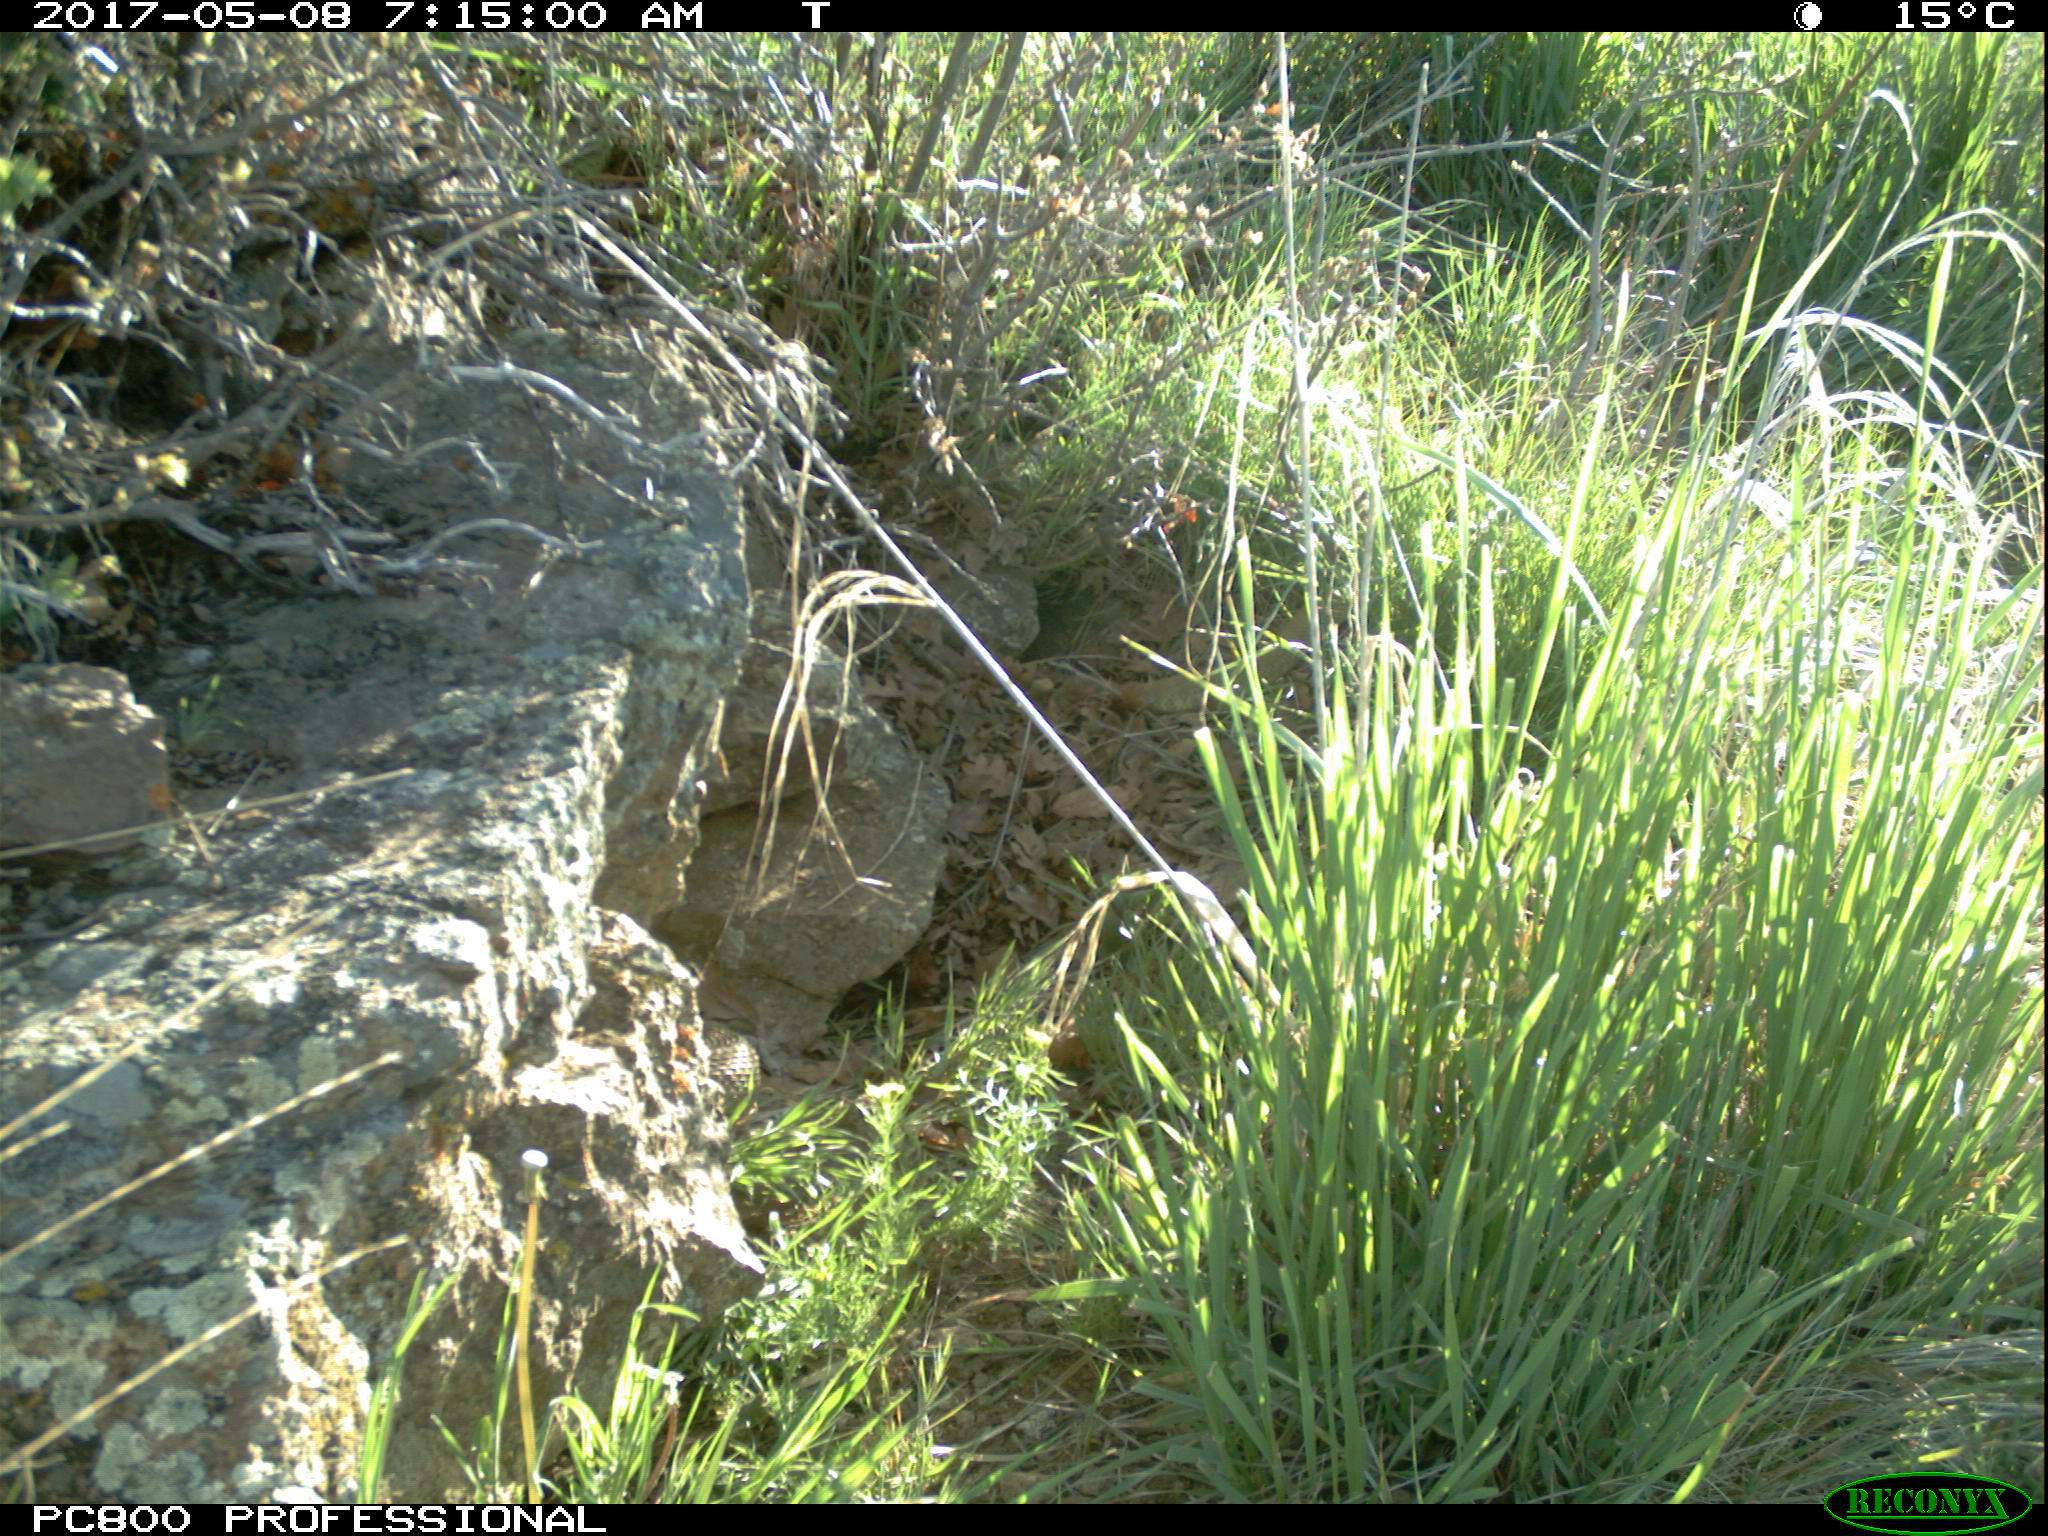snake: (689, 983, 784, 1108)
